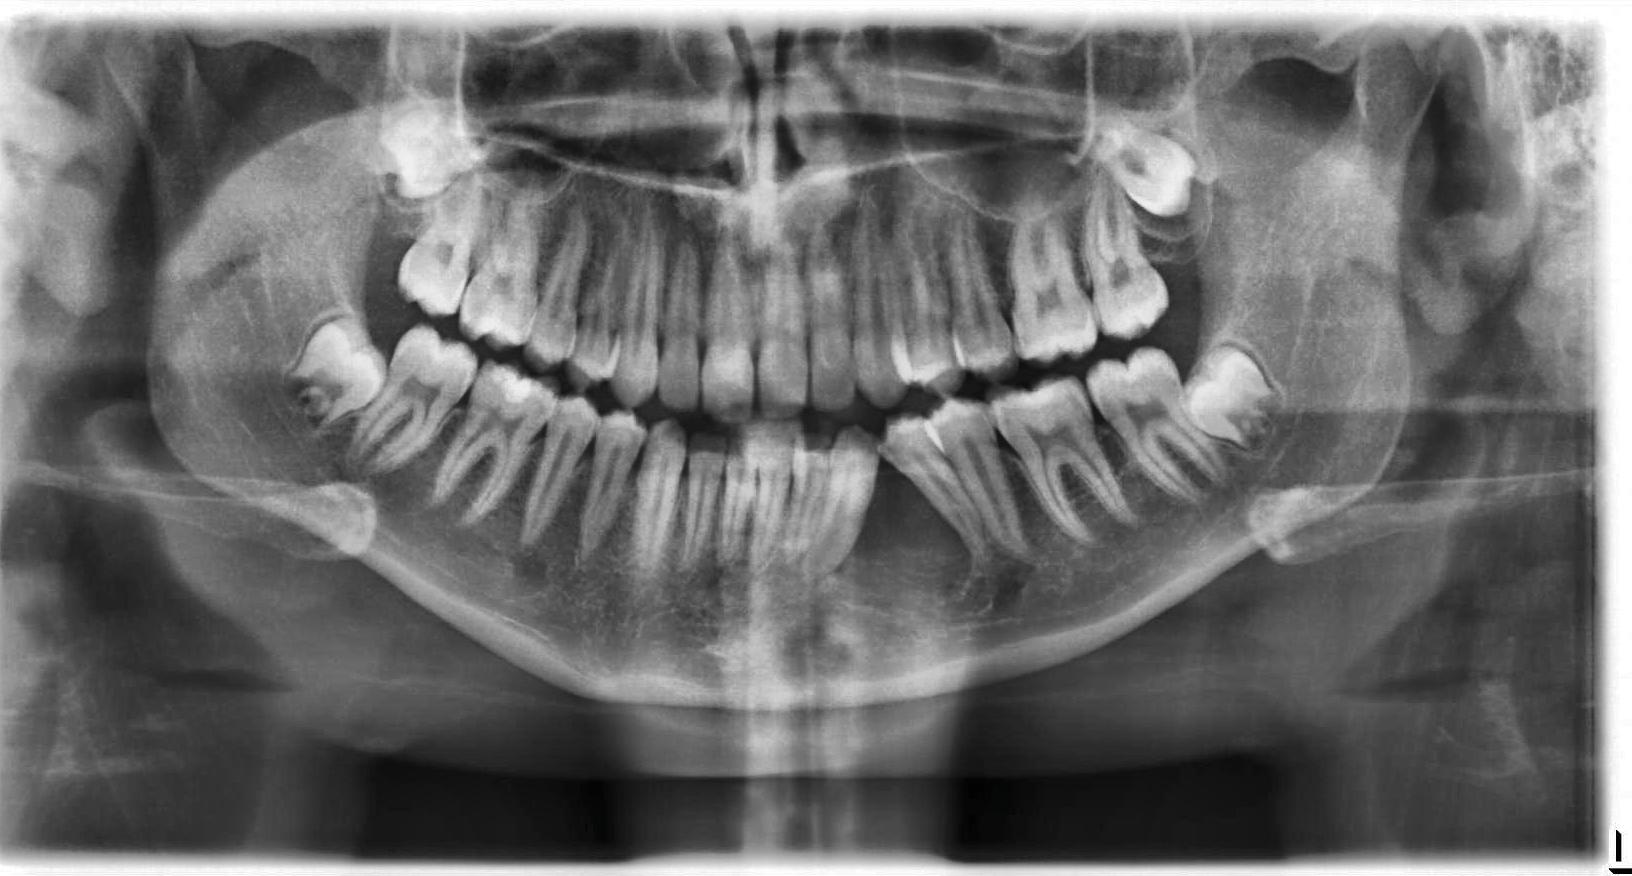keratokist: (832, 470, 975, 611)
